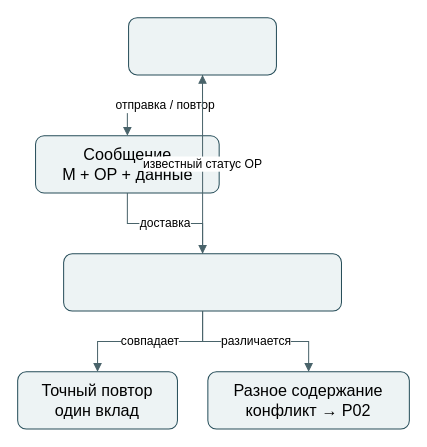
Image size: 427x447. Some labels were removed from this diagram. The shapes that lost their labels are listed below. From the top down, each one's box as (x1, y1, x2, y2) in pixels, then its label:
(128, 17, 276, 75): Источник сохраняет OP
(63, 253, 341, 311): Получатель проверяет OP и содержание
